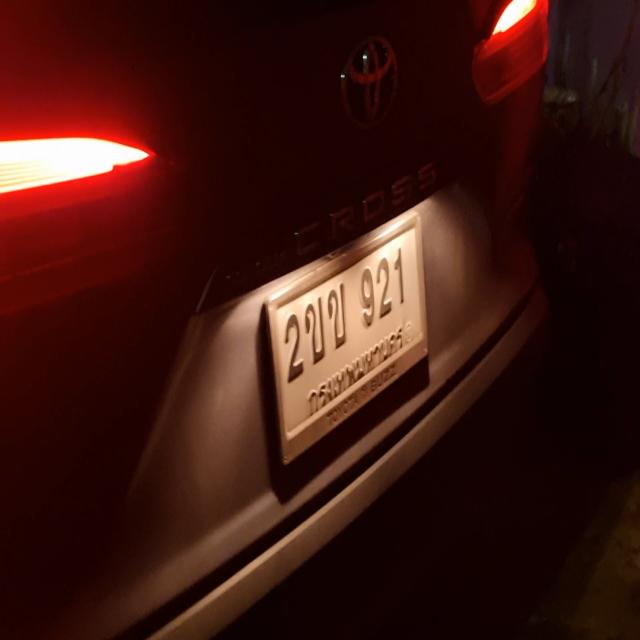license_plate: (265, 203, 430, 476)
